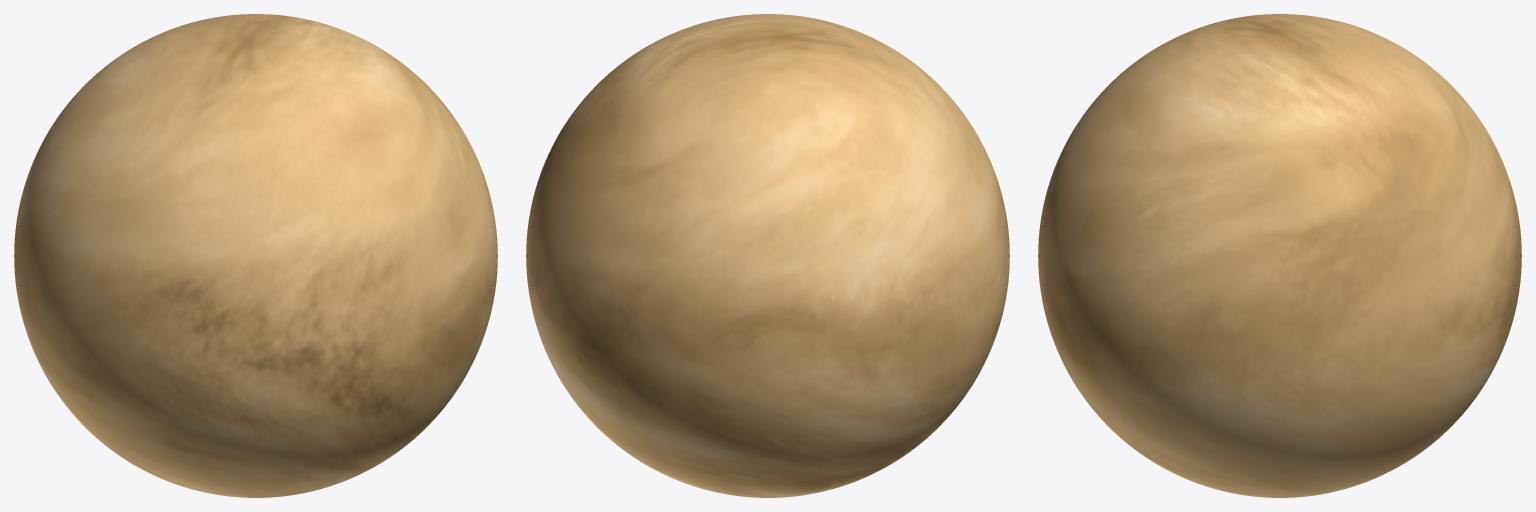
Rendered from venus.glb.
3 views of the same model, side by side, from view 1: azimuth 30°, elevation 25°; view 2: azimuth 150°, elevation 25°; view 3: azimuth 270°, elevation 25° (orthographic).
Visible parts, largest first — view 1: Venus; view 2: Venus; view 3: Venus.
Part boxes in pixels (<box>): Venus: <box>14,14,497,497</box>; Venus: <box>526,14,1009,497</box>; Venus: <box>1038,14,1521,497</box>.
Bounding box in the file's own units: 1.9 × 1.9 × 1.9.
Materials: 1 (1 with a texture image).
